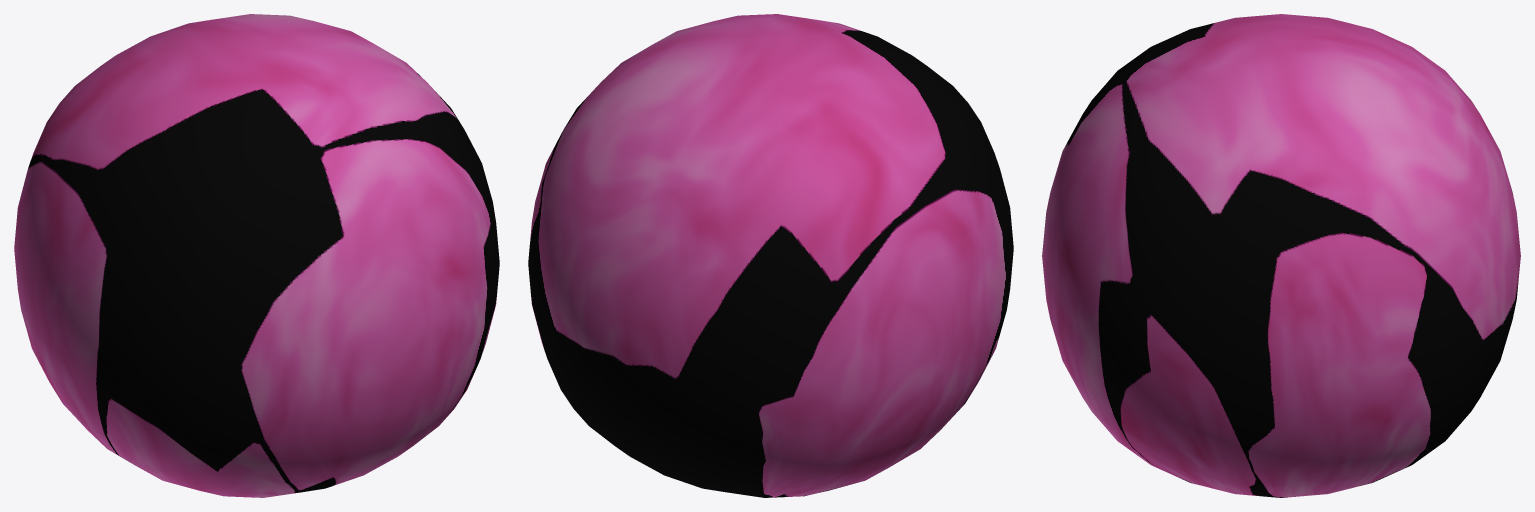
File: texture.fbx
3 views of the same model, side by side, from view 1: azimuth 30°, elevation 25°; view 2: azimuth 150°, elevation 25°; view 3: azimuth 270°, elevation 25° (orthographic).
Visible parts, largest first — view 1: Bubble; view 2: Bubble; view 3: Bubble.
Part boxes in pixels (box(x1,y1,x2,y2)): Bubble: box(14, 14, 499, 497); Bubble: box(528, 14, 1013, 497); Bubble: box(1042, 14, 1520, 497).
Size of the model in its own units: 160 by 160 by 160.
